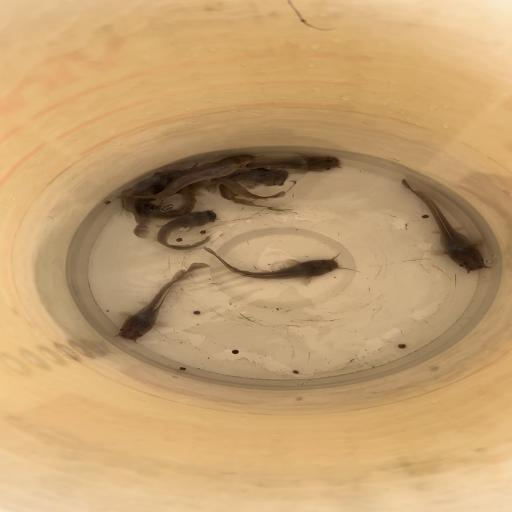lele: (396, 176, 492, 276), (107, 261, 211, 344), (116, 154, 258, 200), (201, 246, 362, 282), (122, 166, 186, 239), (219, 168, 293, 215), (156, 210, 220, 250), (139, 186, 196, 221), (210, 177, 287, 201), (253, 154, 353, 172)
